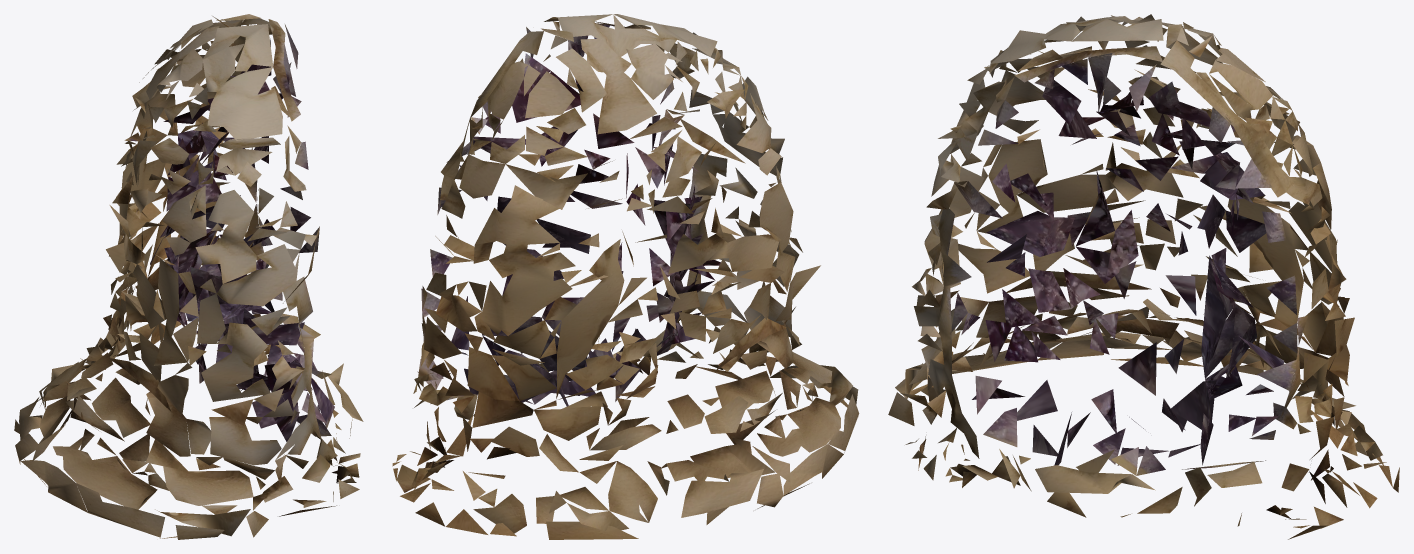
File: ch10_geode_crystal_wall_LOD3.glb
3 views of the same model, side by side, from view 1: azimuth 30°, elevation 25°; view 2: azimuth 150°, elevation 25°; view 3: azimuth 270°, elevation 25° (orthographic). The views are drawn at different scales.
Parts seen in each view (by area): view 1: tripo_node_a2872151-7de7-4f96-a33a-80caff468798; view 2: tripo_node_a2872151-7de7-4f96-a33a-80caff468798; view 3: tripo_node_a2872151-7de7-4f96-a33a-80caff468798.
Boxes of the visible parts, x1,y1,x2,y2 form: tripo_node_a2872151-7de7-4f96-a33a-80caff468798: (14,14,363,539); tripo_node_a2872151-7de7-4f96-a33a-80caff468798: (392,14,859,539); tripo_node_a2872151-7de7-4f96-a33a-80caff468798: (888,14,1399,539).
Size of the model in its own units: 0.8344 by 0.9978 by 1.02.
1 material, 1 textured.
